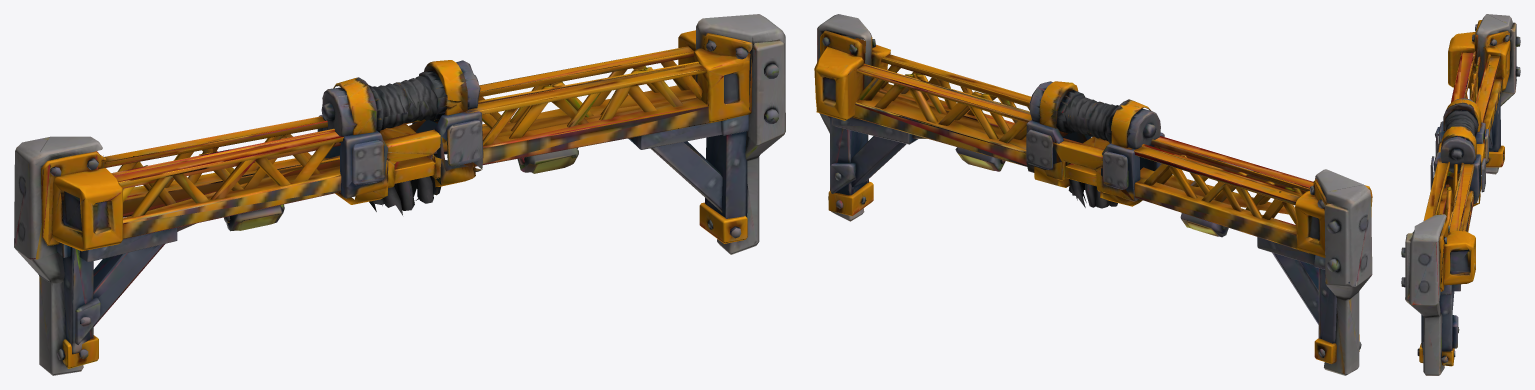
Rendered from gantry_arm.glb.
3 renders of one model, left to right at view 1: azimuth 30°, elevation 25°; view 2: azimuth 150°, elevation 25°; view 3: azimuth 270°, elevation 25°, orthographic. The views are drawn at different scales.
Size of what is drawn, in the model's own units: 1.26 by 0.4085 by 0.2815.
1 material, 1 textured.
